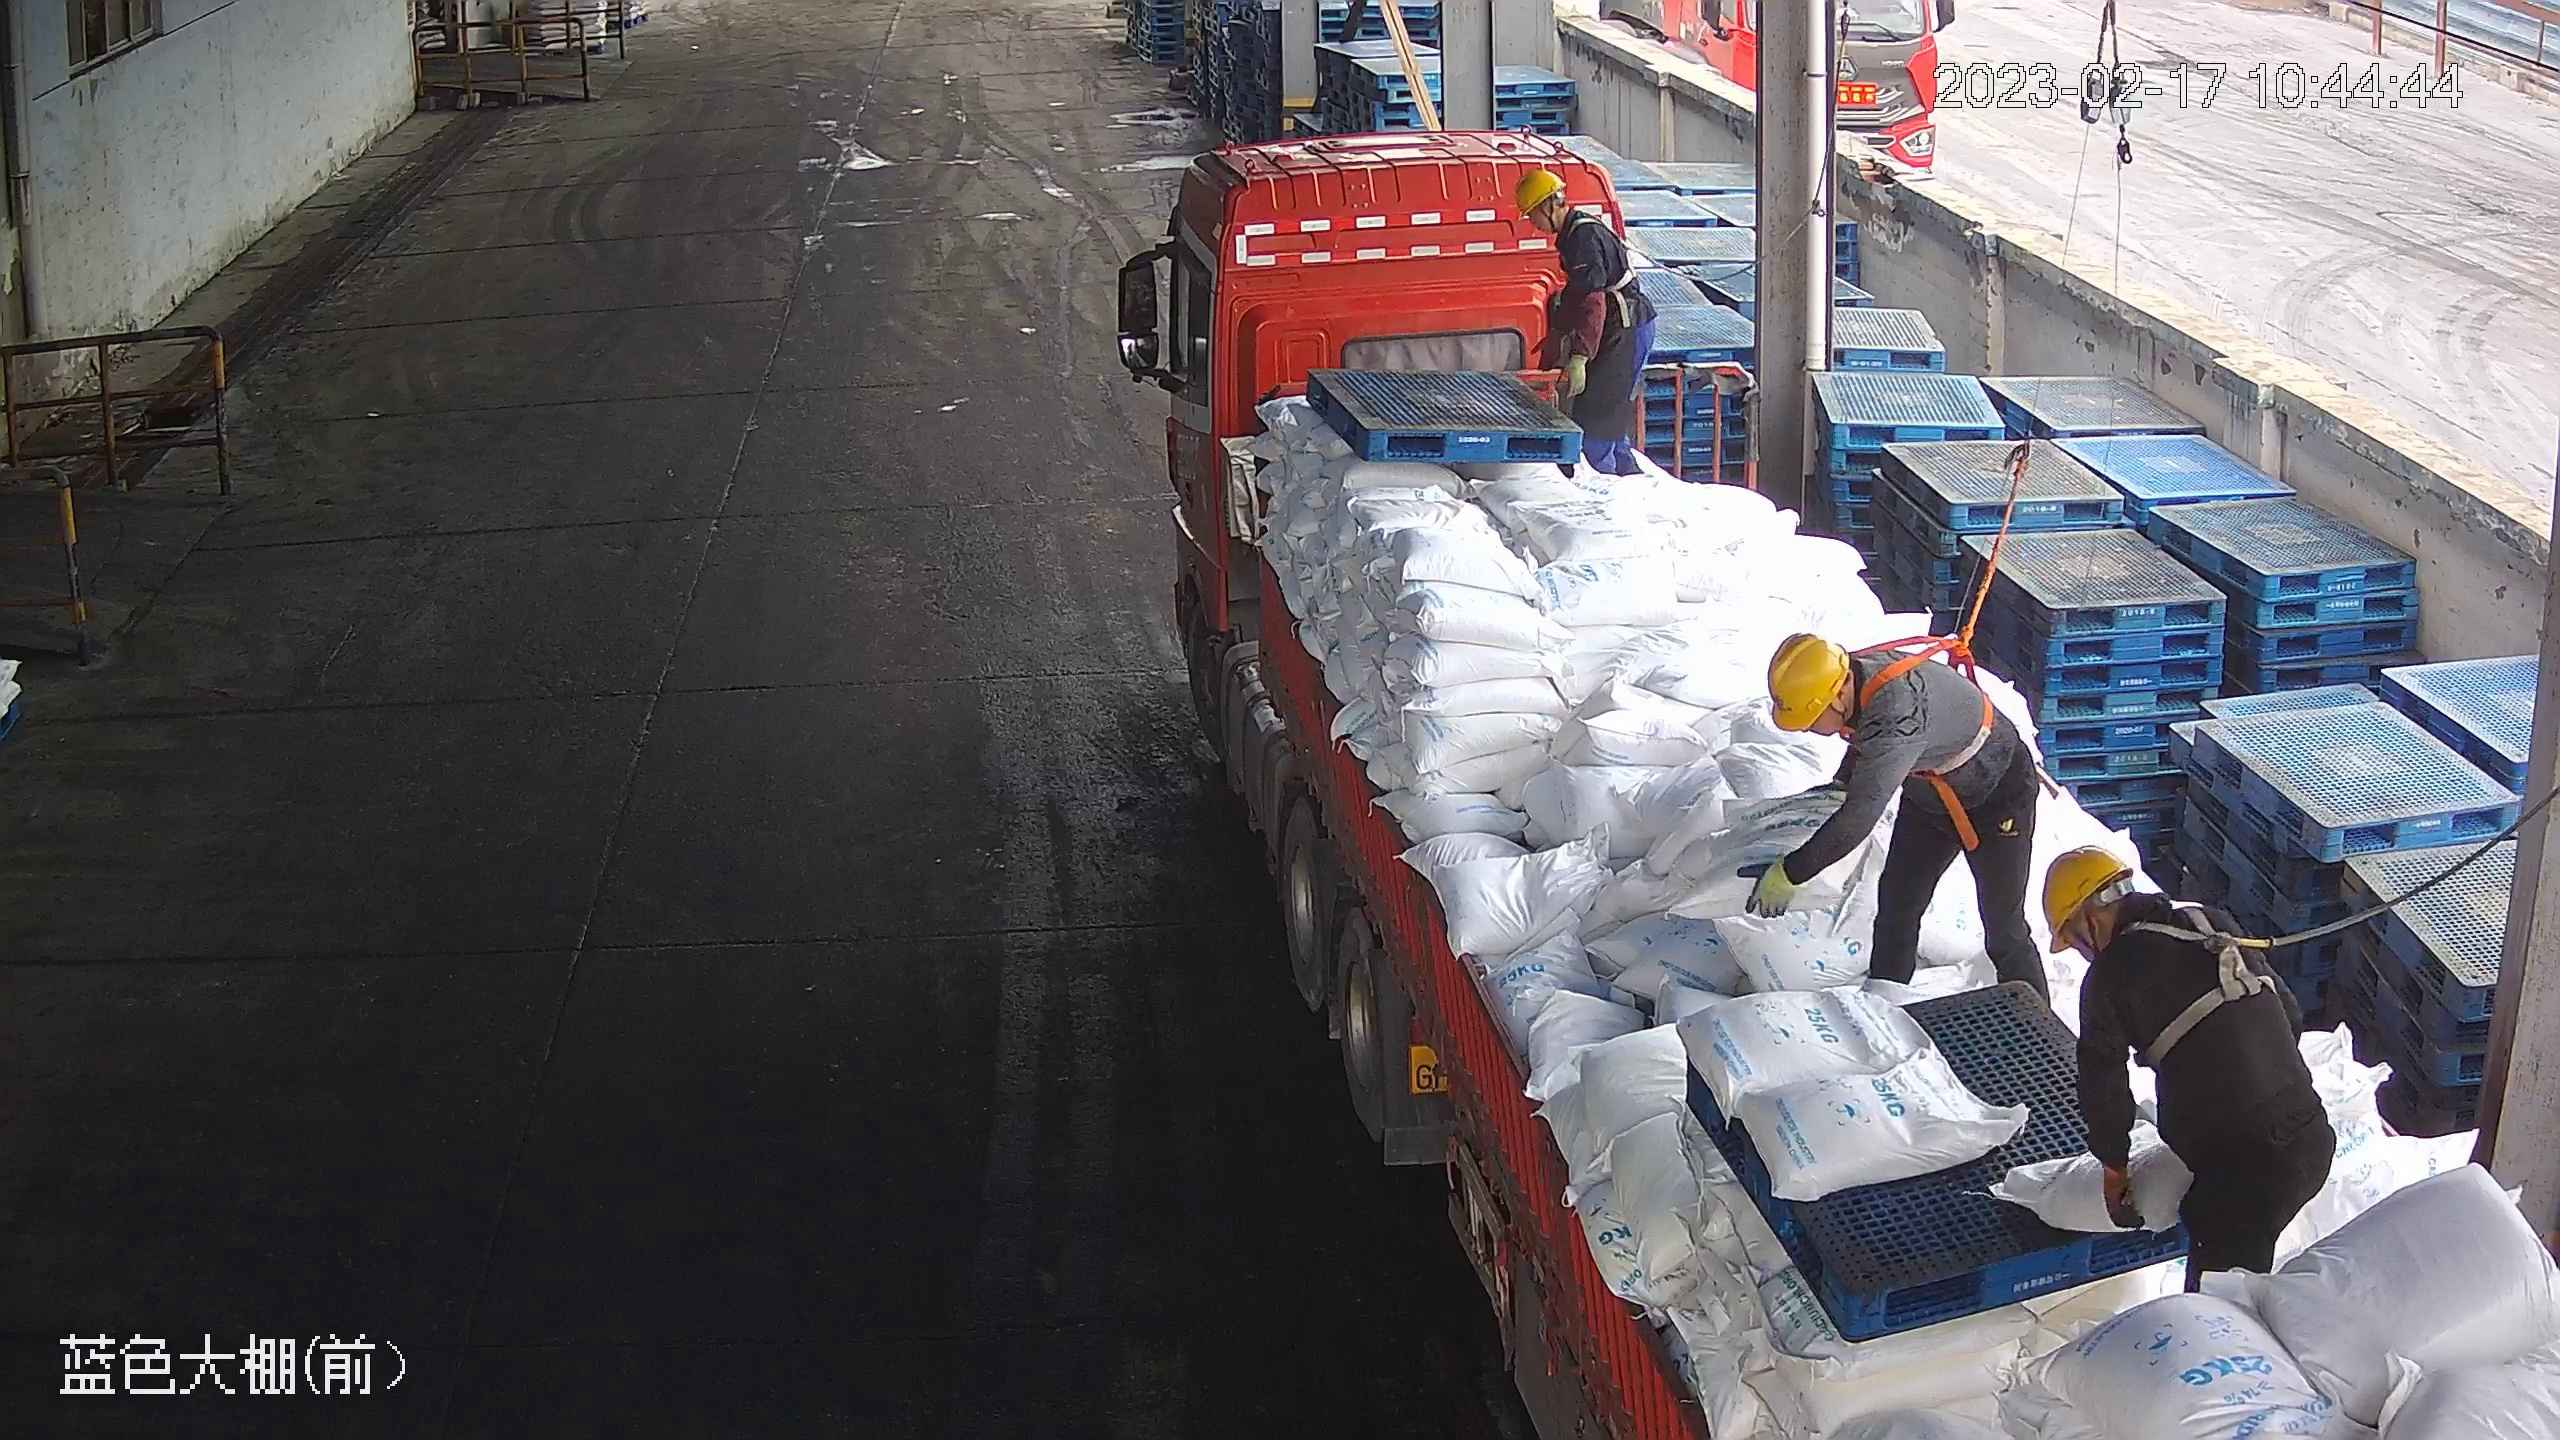belt: (1852, 608, 2001, 813), (2122, 888, 2278, 1069), (1569, 213, 1676, 306)
head: (2047, 849, 2242, 1042), (1769, 630, 1964, 769), (1515, 171, 1627, 284)
helmet: (2045, 850, 2135, 954), (1771, 635, 1851, 733), (1517, 169, 1566, 217)
people: (2044, 847, 2337, 1286), (1735, 632, 2054, 994), (1515, 169, 1659, 478)
truck: (1103, 132, 2560, 1440)
